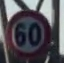limite 60: (5, 5, 52, 60)
